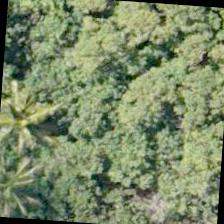Kelapa_Sawit: (0, 63, 59, 158), (0, 130, 53, 221)
